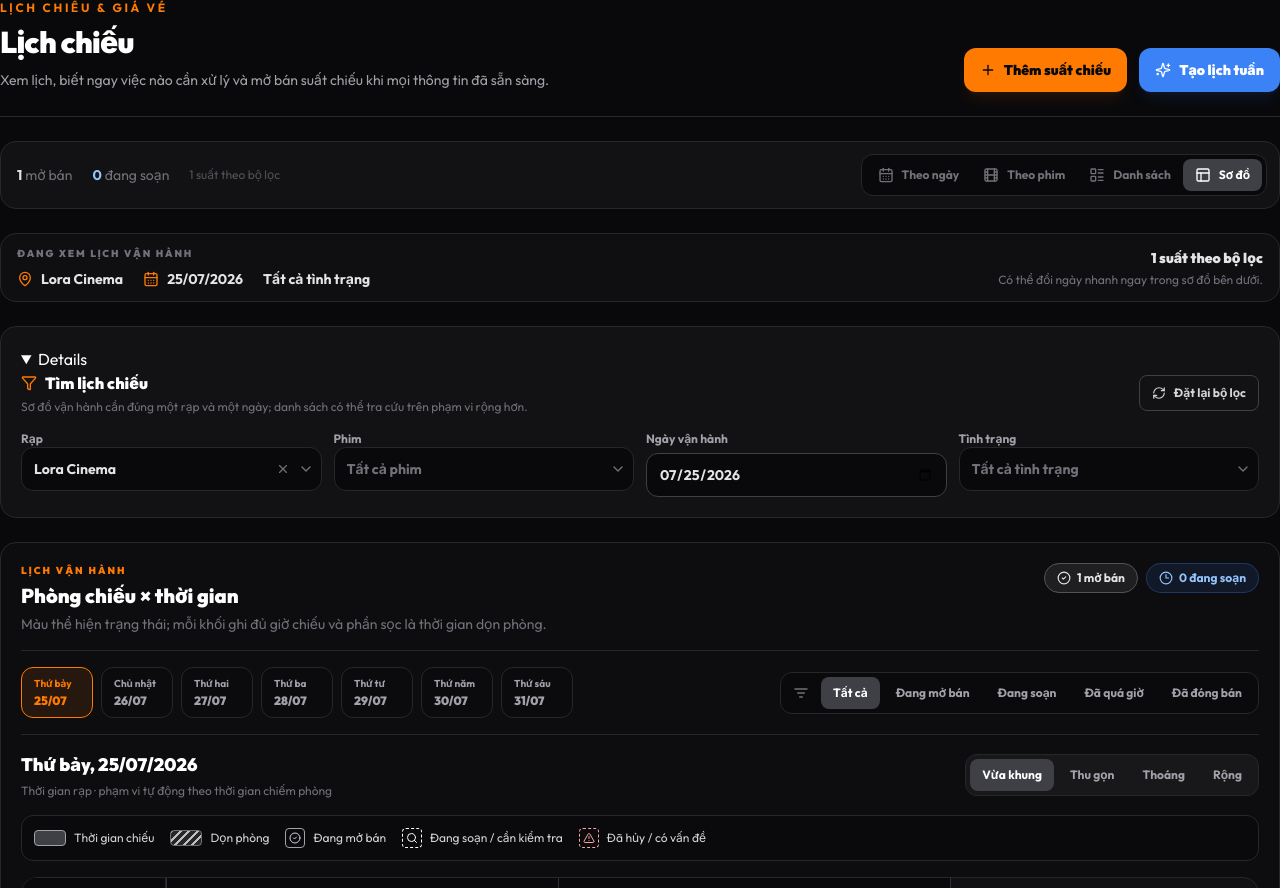
it: ShowtimeTable cinema timezone › offers day, movie, list, and timeline views on the regular showtime page
Expected: the element named "Chế độ xem lịch chiếu" shows "Theo phim", x1=971 y1=159 x2=1077 y2=191
Expected: the element named "Chế độ xem lịch chiếu" shows "Danh sách", x1=1077 y1=159 x2=1183 y2=191
Click the button "Theo ngày" at (918, 175), box x1=866 y1=159 x2=971 y2=191
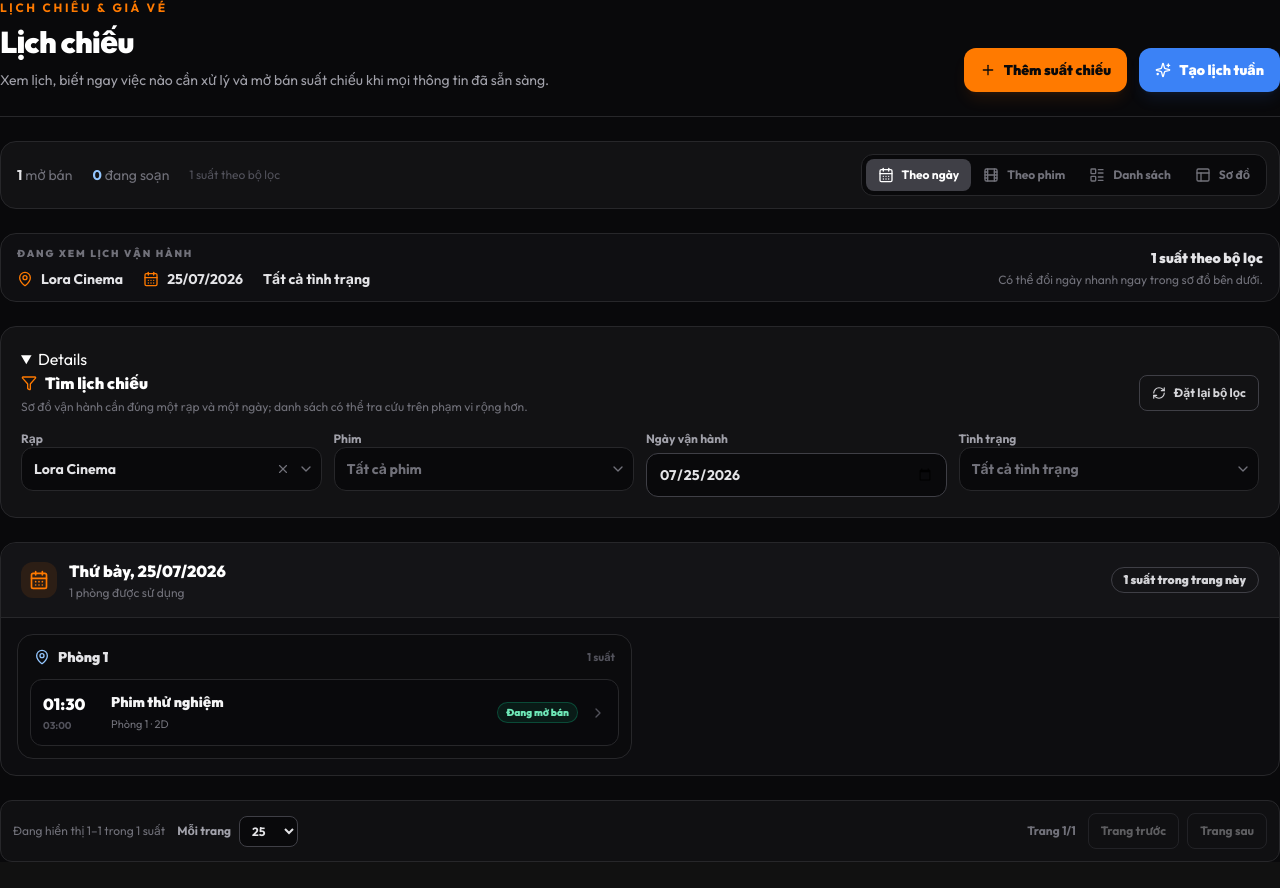
Expected: the element named "Lịch chiếu theo ngày" is shown, x1=0 y1=542 x2=1279 y2=776
Click the button "Theo phim" at (1024, 175), box x1=971 y1=159 x2=1077 y2=191
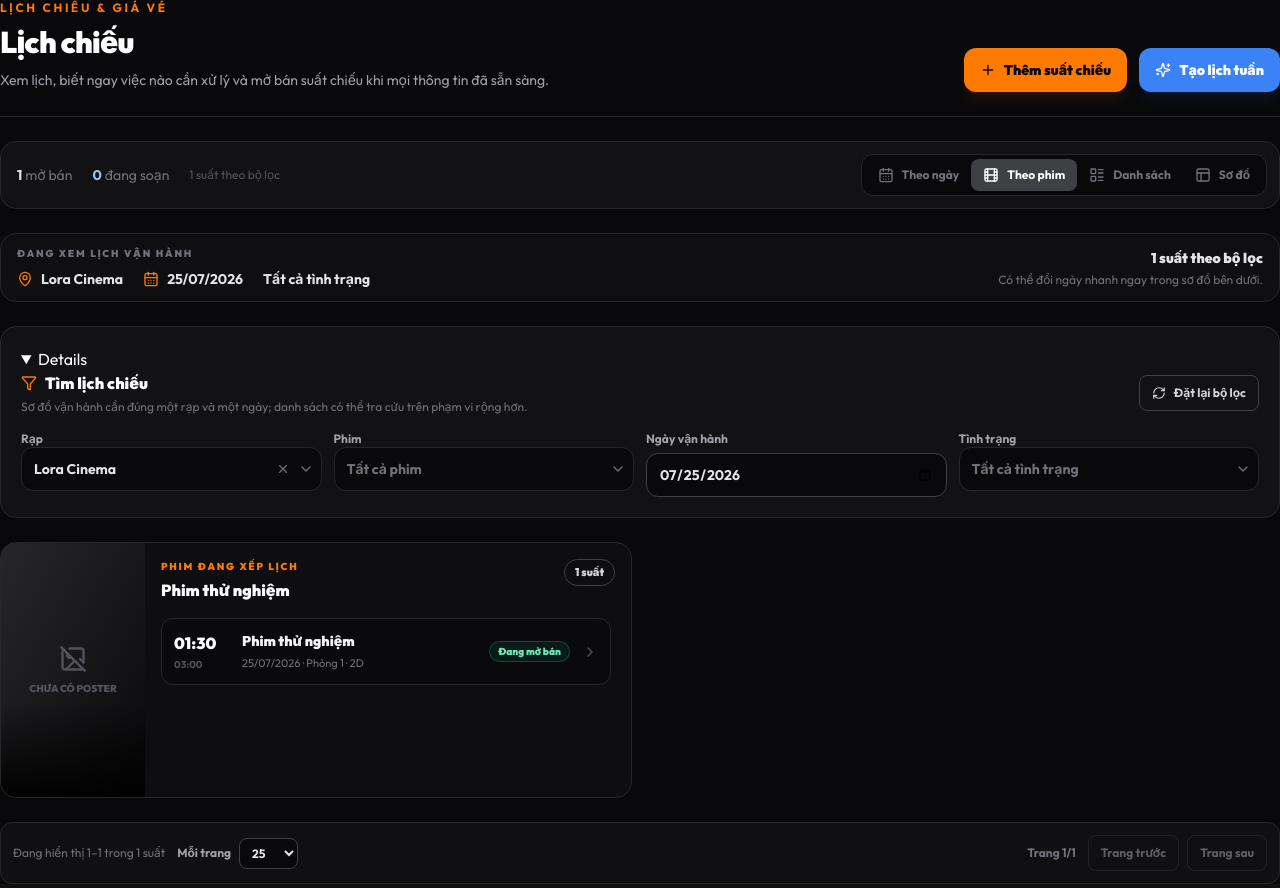
Expected: the element named "Lịch chiếu theo phim" is shown, x1=0 y1=542 x2=632 y2=798
Click the button "Danh sách" at (1130, 175), box x1=1077 y1=159 x2=1183 y2=191
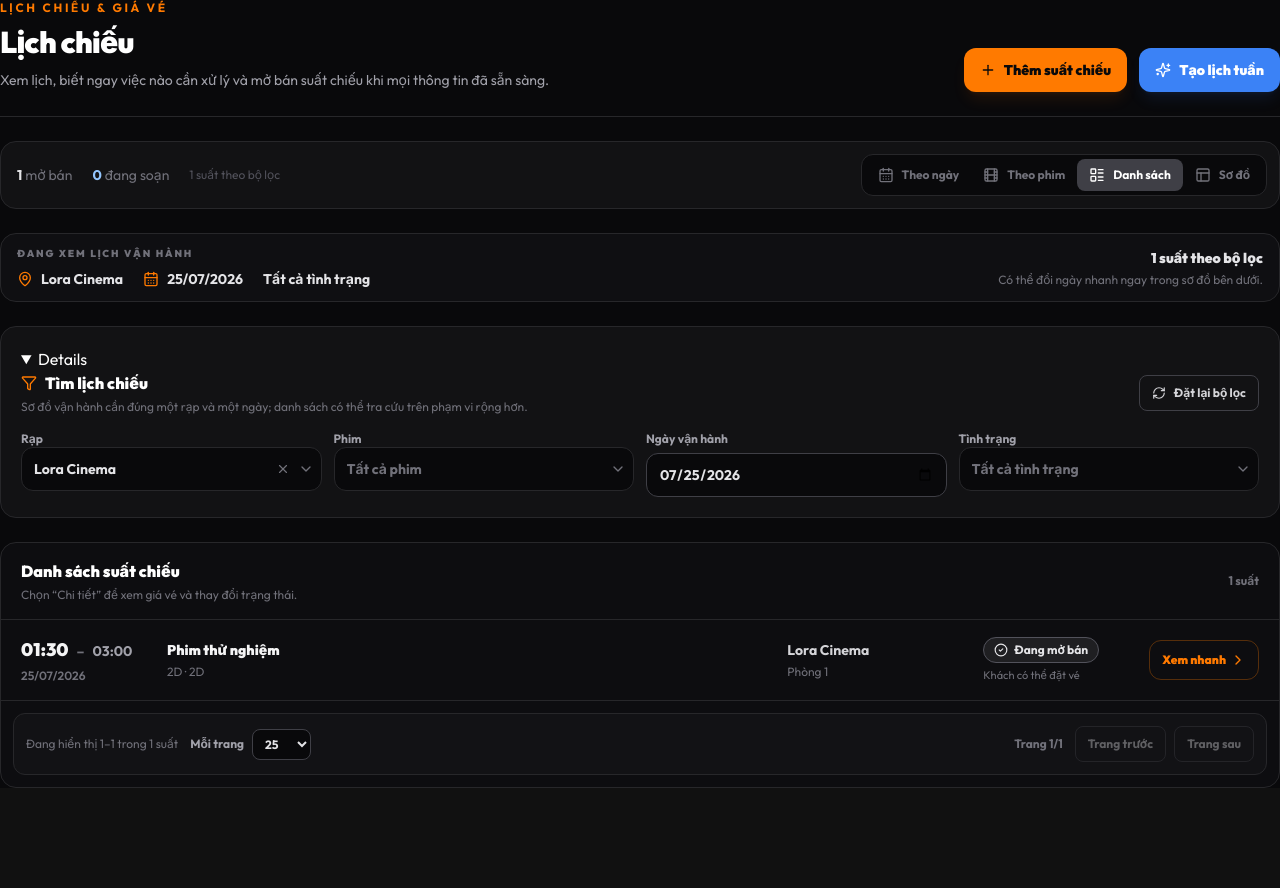
Expected: the element "Danh sách suất chiếu" is shown, x1=0 y1=542 x2=1279 y2=788
Click the button "Sơ đồ" at (1222, 175), box x1=1183 y1=159 x2=1262 y2=191
(page scrolled)
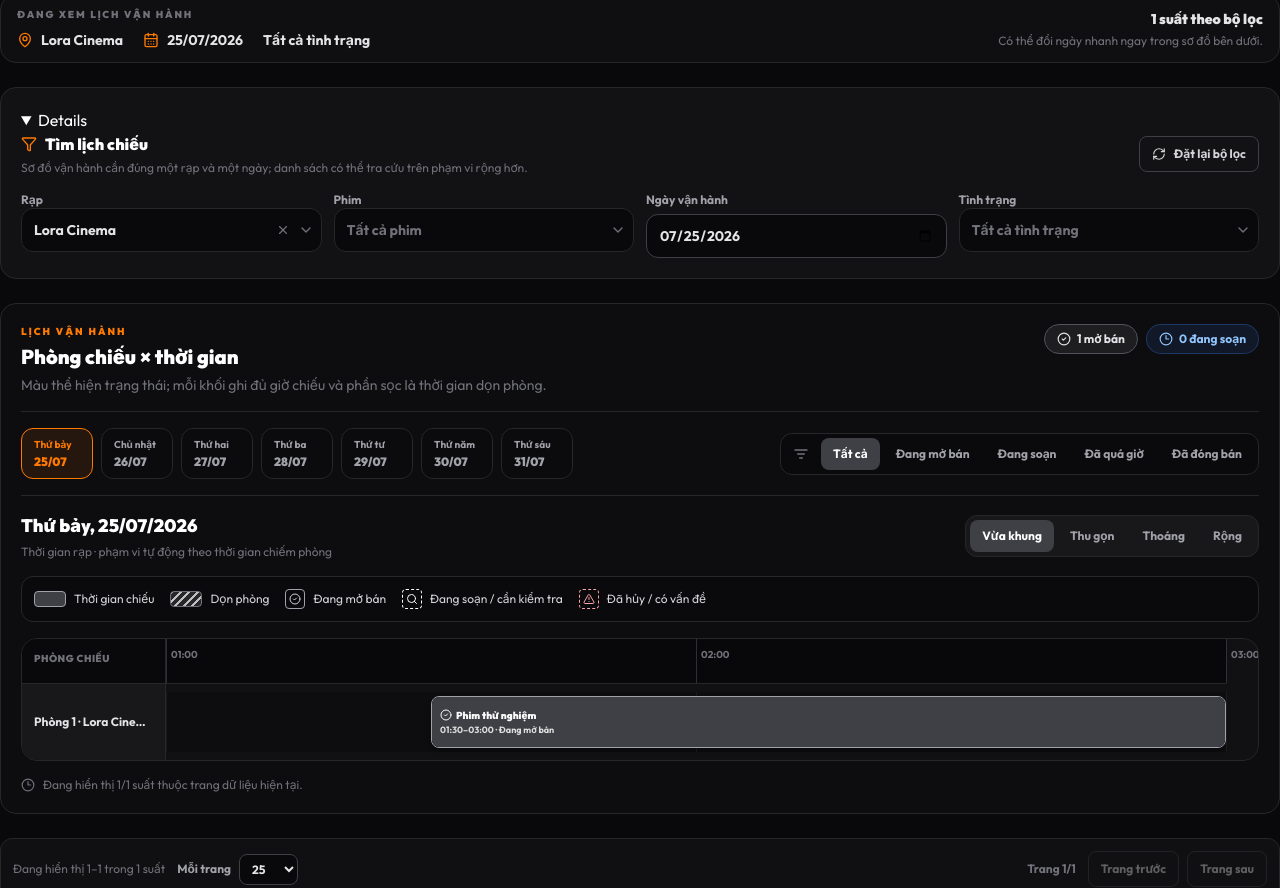
Expected: the element "Phòng chiếu × thời gian" is shown, x1=0 y1=303 x2=1279 y2=814
